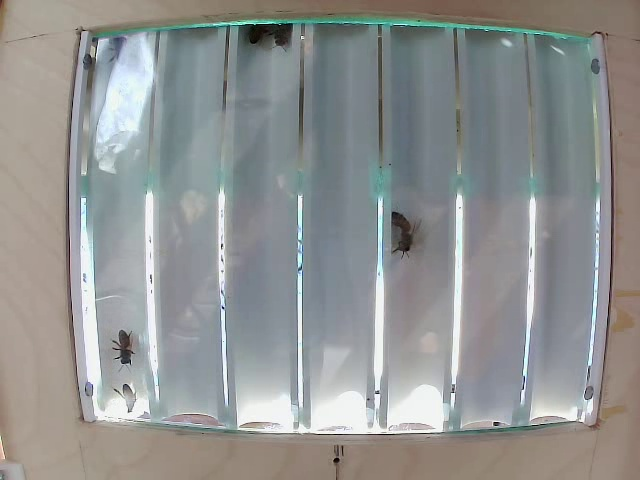bee: (395, 206, 421, 263), (271, 22, 304, 65), (104, 323, 138, 364)
